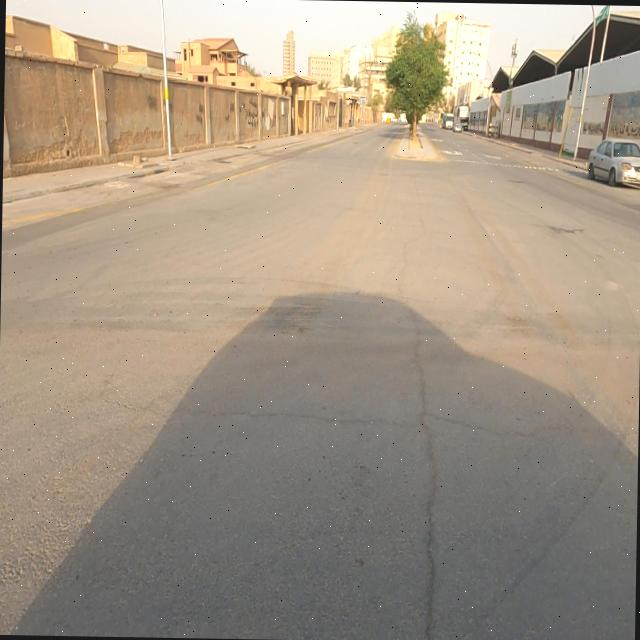Graffiti: (247, 98, 260, 131), (147, 93, 157, 111), (198, 104, 205, 128), (229, 102, 236, 114)
